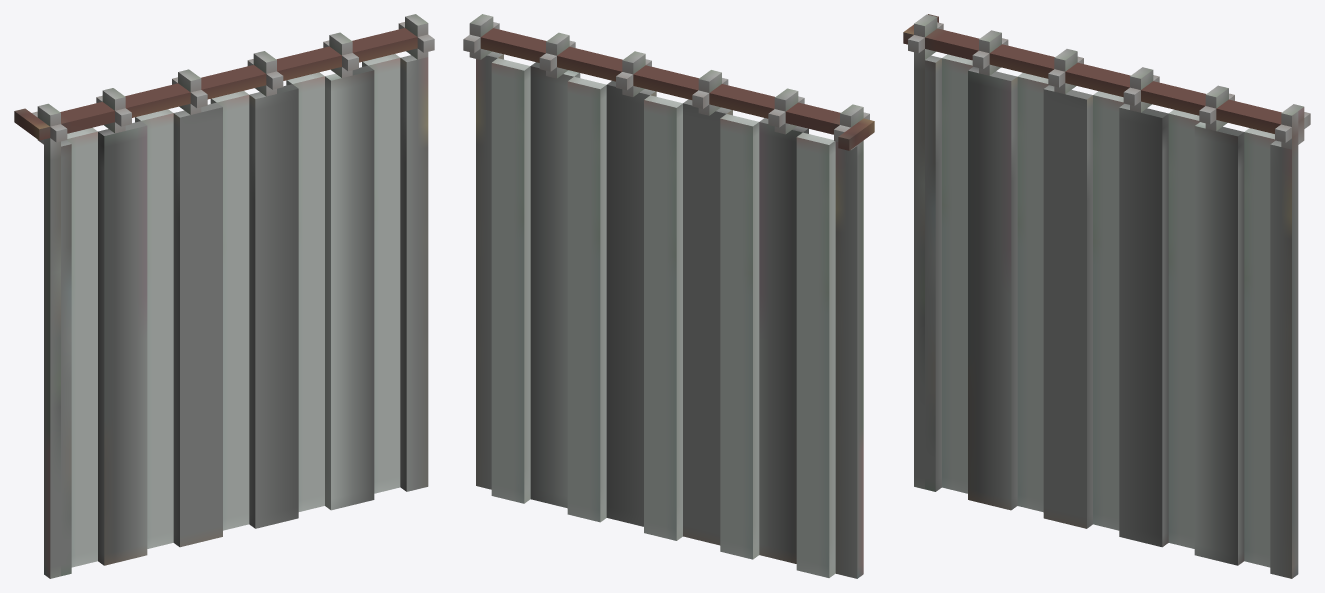
The model's file is CurtainGrey_01.obj.
The picture shows the model from 3 angles, left to right: view 1: azimuth 30°, elevation 25°; view 2: azimuth 150°, elevation 25°; view 3: azimuth 330°, elevation 25°; orthographic projection.
Visible parts, largest first — view 1: CurtainGrey_01; view 2: CurtainGrey_01; view 3: CurtainGrey_01.
Part boxes in pixels (x1,y1,x2,y2): CurtainGrey_01: [14, 14, 434, 578]; CurtainGrey_01: [463, 14, 874, 578]; CurtainGrey_01: [903, 14, 1310, 578].
Bounding box in the file's own units: 1.8 × 2.05 × 0.25.
